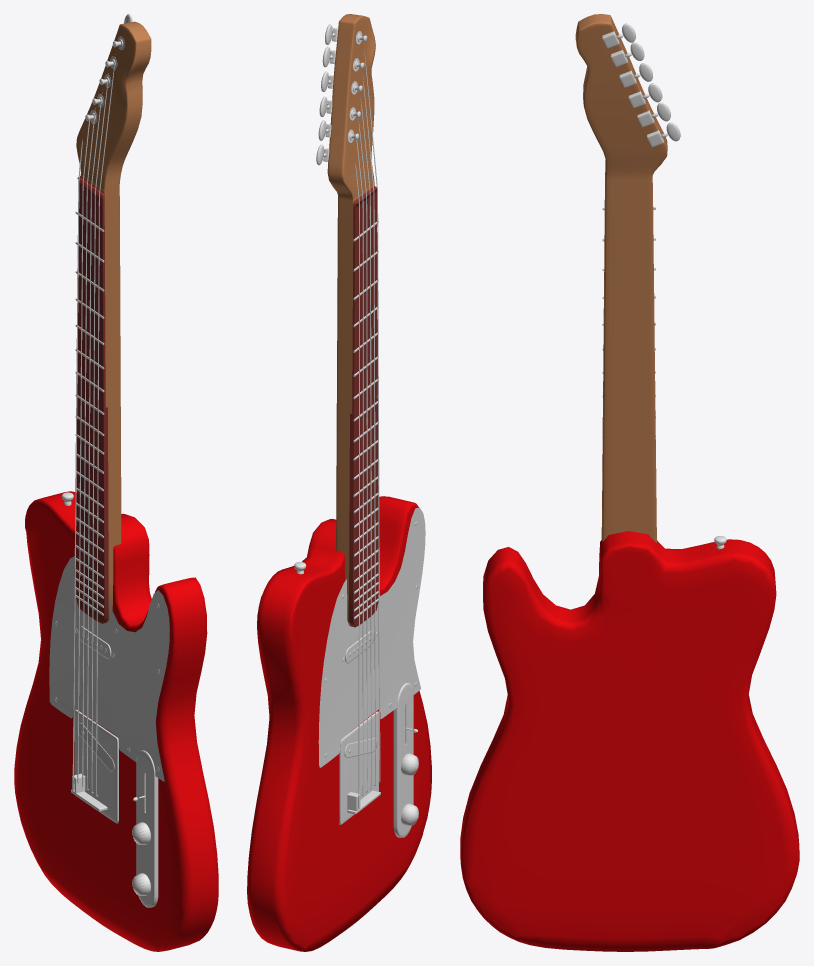
Rendered from GUITAR.glb.
3 renders of one model, left to right at view 1: azimuth 30°, elevation 25°; view 2: azimuth 150°, elevation 25°; view 3: azimuth 270°, elevation 25°, orthographic. The views are drawn at different scales.
Parts seen in each view (by area): view 1: Guitar; view 2: Guitar; view 3: Guitar.
Part boxes in pixels (left/top/right/bottom): Guitar: left=14, top=14, right=218, bottom=951; Guitar: left=247, top=14, right=431, bottom=951; Guitar: left=460, top=14, right=799, bottom=951.
Bounding box in the file's own units: 0.4076 × 6.51 × 2.16.
